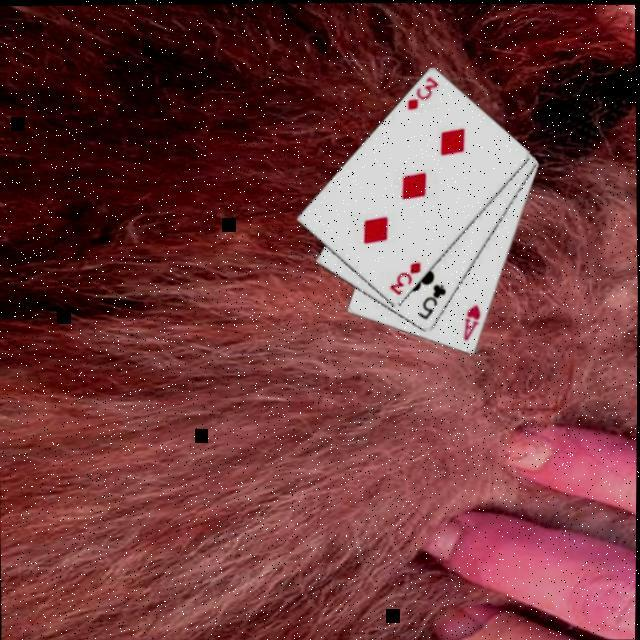3D: (384, 257, 424, 297), (402, 72, 441, 111)
5C: (414, 279, 448, 321)
AH: (460, 300, 482, 342)
